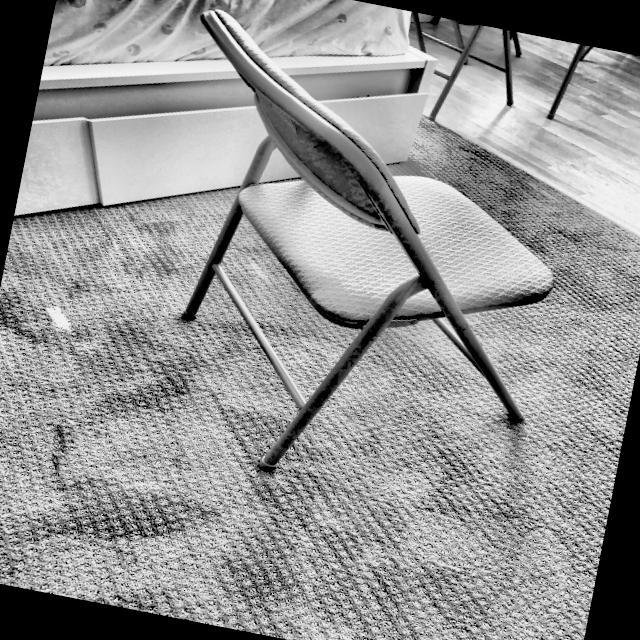chair: (110, 2, 589, 515)
